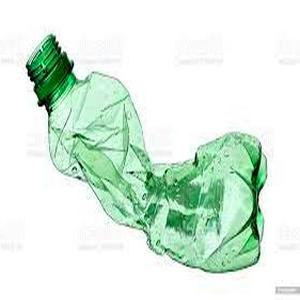Plastic: (24, 33, 266, 274)
